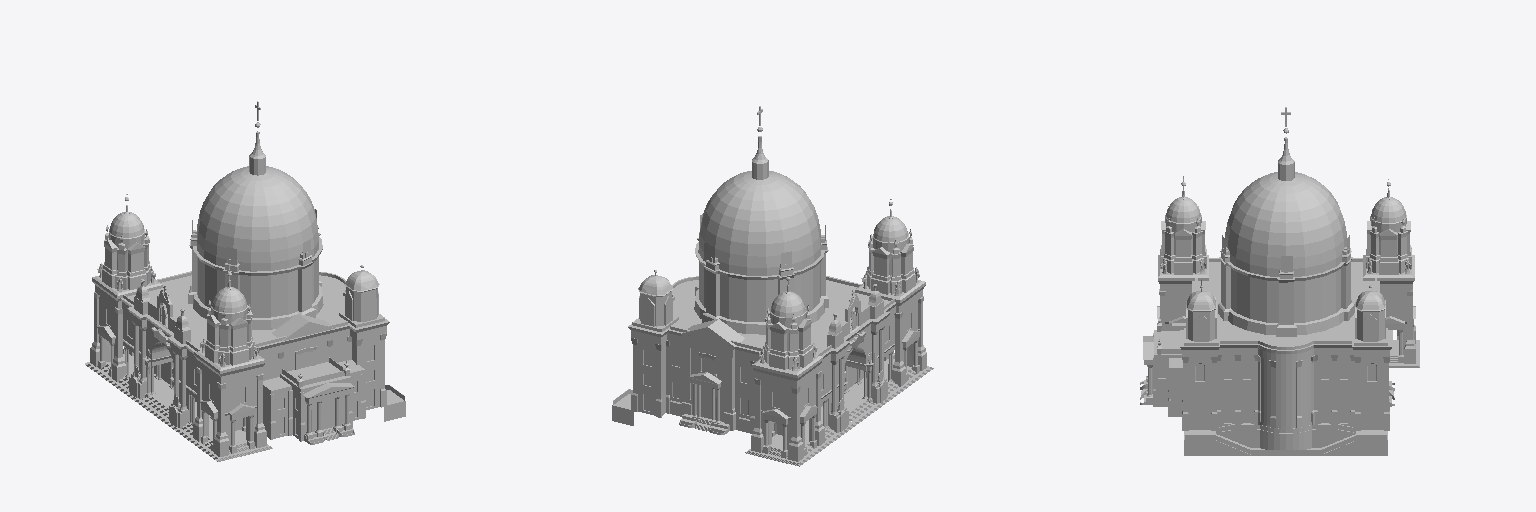
The model's file is A95XNTJMFCEC0P92ZM4PJXDN6.obj.
3 views of the same model, side by side, from view 1: azimuth 30°, elevation 25°; view 2: azimuth 150°, elevation 25°; view 3: azimuth 270°, elevation 25° (orthographic).
Visible parts, largest first — view 1: Object_TexMap_0; view 2: Object_TexMap_0; view 3: Object_TexMap_0.
Boxes of the visible parts, box(x1,y1,x2,y2) form: Object_TexMap_0: box(85, 101, 405, 461); Object_TexMap_0: box(612, 106, 933, 466); Object_TexMap_0: box(1140, 107, 1419, 455).
Size of the model in its own units: 1.77 by 2.5 by 2.1.